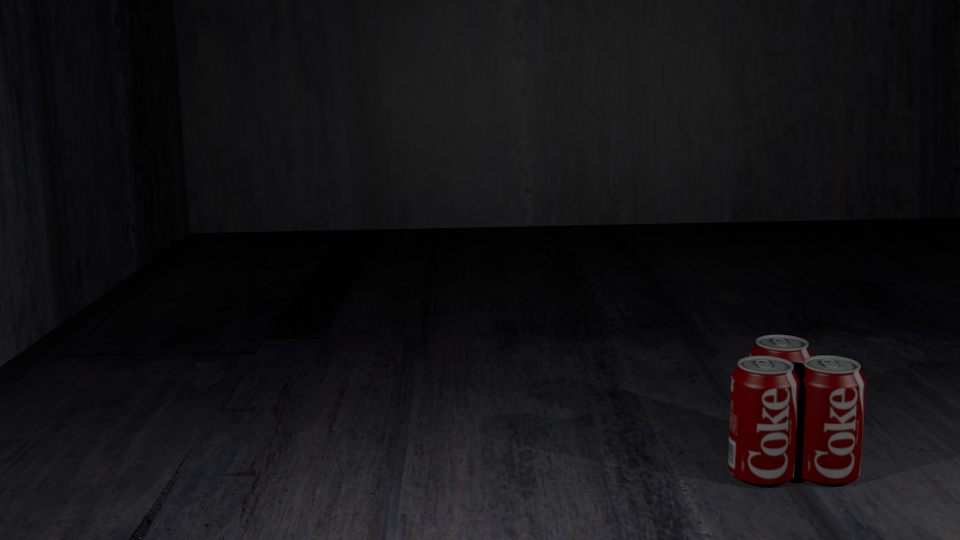cola_can: (730, 356, 798, 481), (796, 356, 865, 479), (751, 335, 812, 452)
